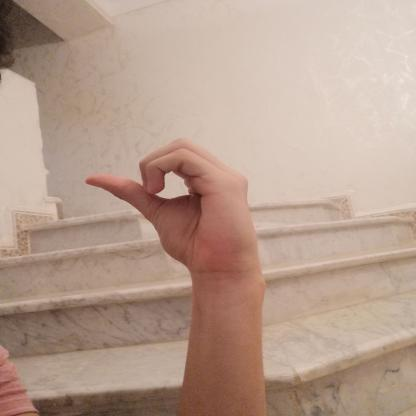WAW: (70, 127, 272, 281)
